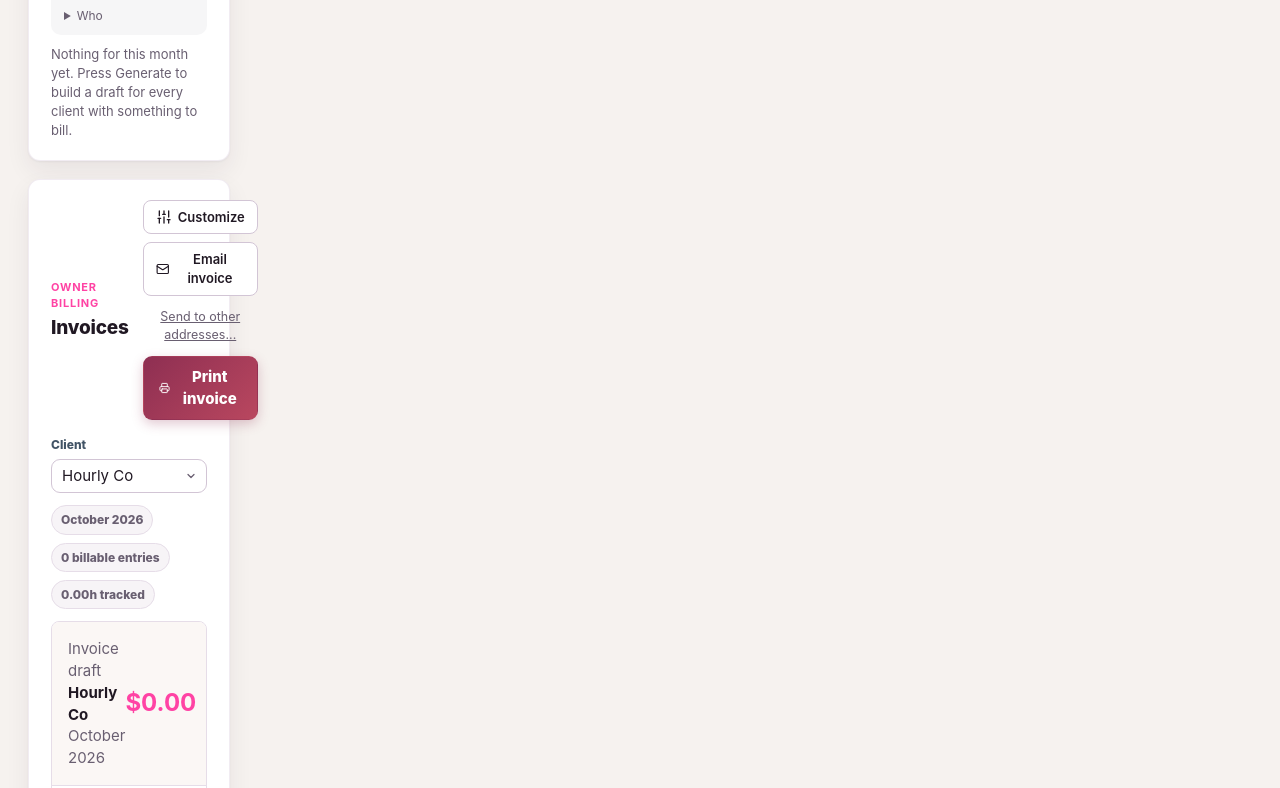
Test: the lower Print prints the saved invoice when the month has one › says the status the way the month run does, and copes with no number
(page scrolled)
Click the button "Print invoice" at (200, 388), box [143, 356, 258, 420]
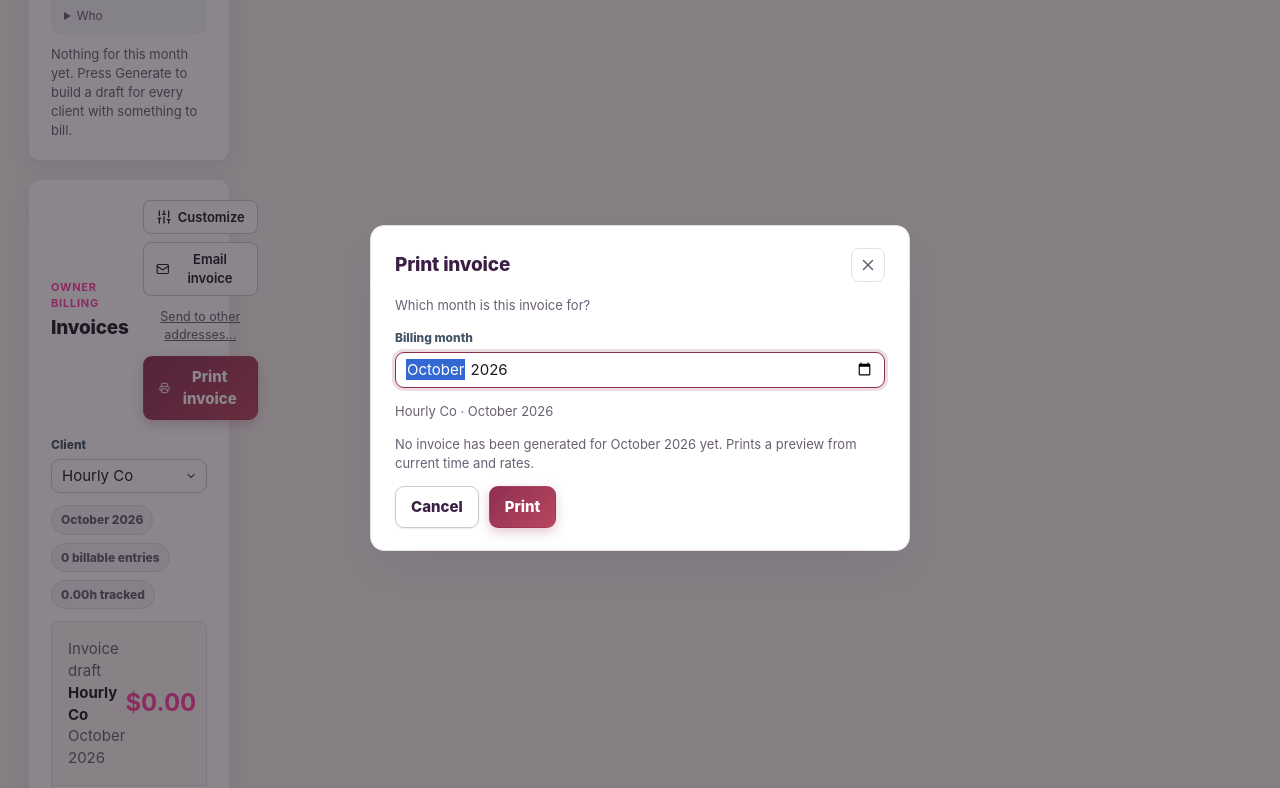
Replace the text in the field labelled "Billing month" with "2026-09" at (640, 370), box [395, 352, 885, 388]
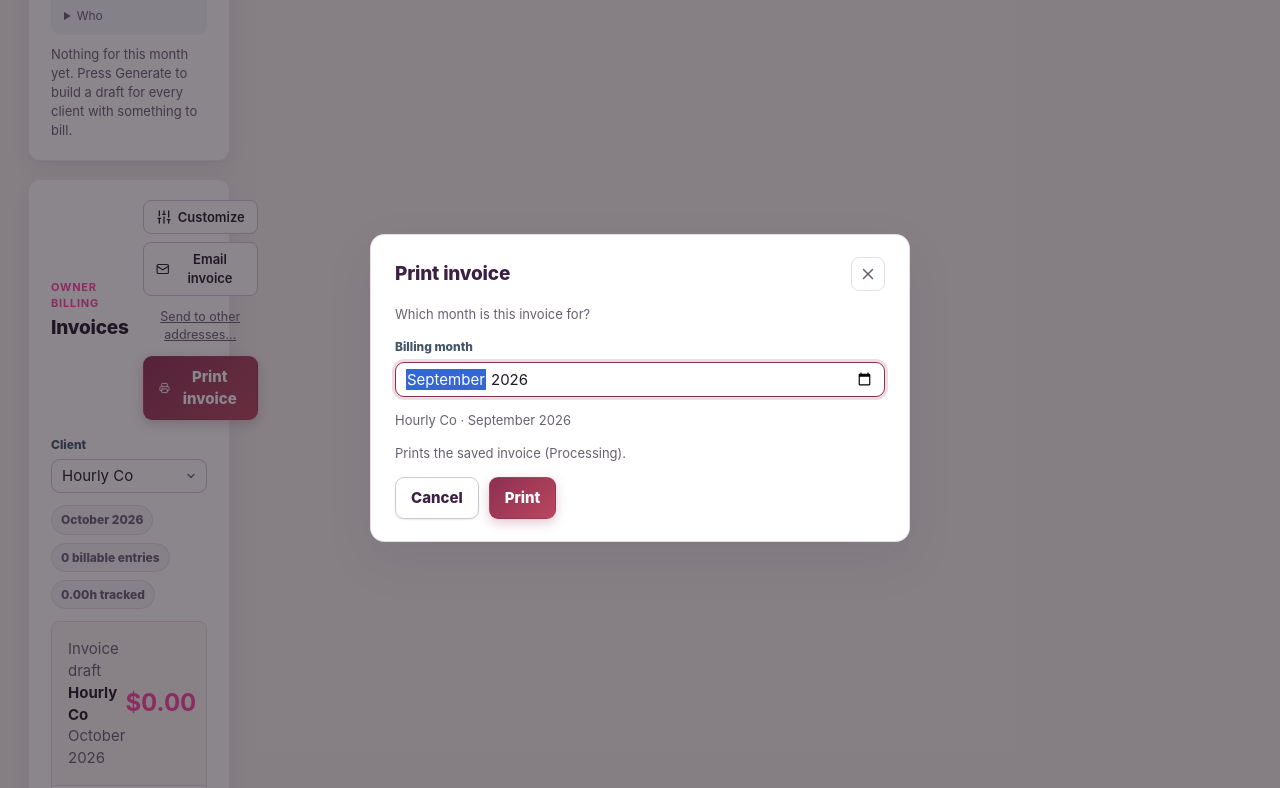
Expected: the text "Prints the saved invoice (Processing)." is shown, [395, 445, 626, 461]
